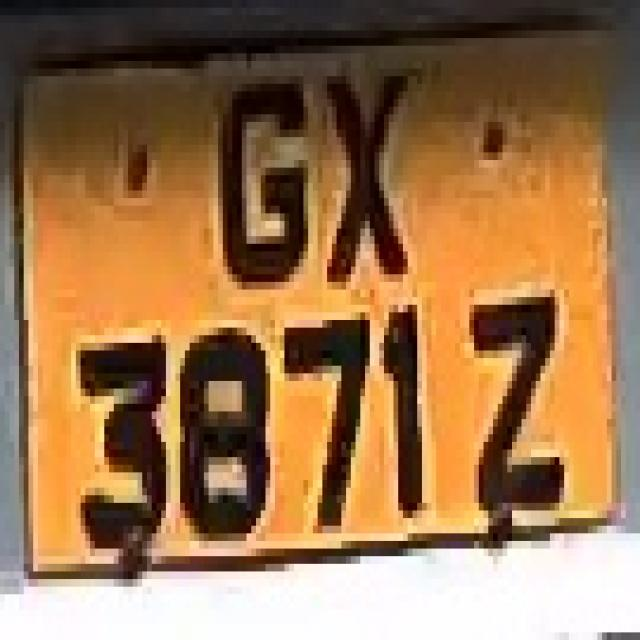1: (374, 274, 441, 564)
3: (71, 305, 176, 571)
7: (275, 282, 370, 571)
8: (166, 313, 289, 556)
G: (199, 53, 304, 297)
X: (308, 53, 422, 274)
Z: (460, 274, 583, 534)
